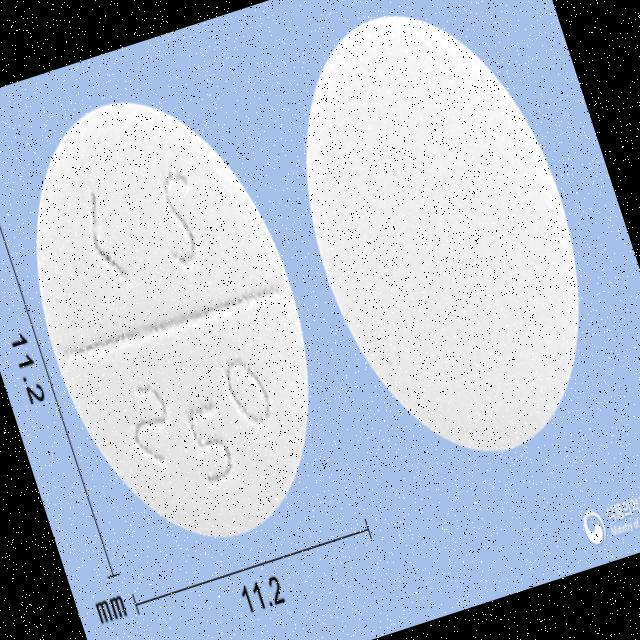Cifroxa: (243, 0, 640, 497), (0, 60, 365, 580)
